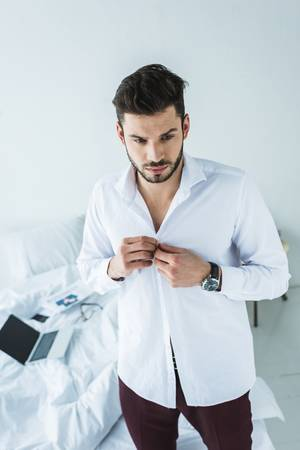C_shirt: (76, 156, 292, 408)
